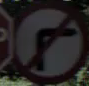Don't turn right: (22, 8, 75, 70)
